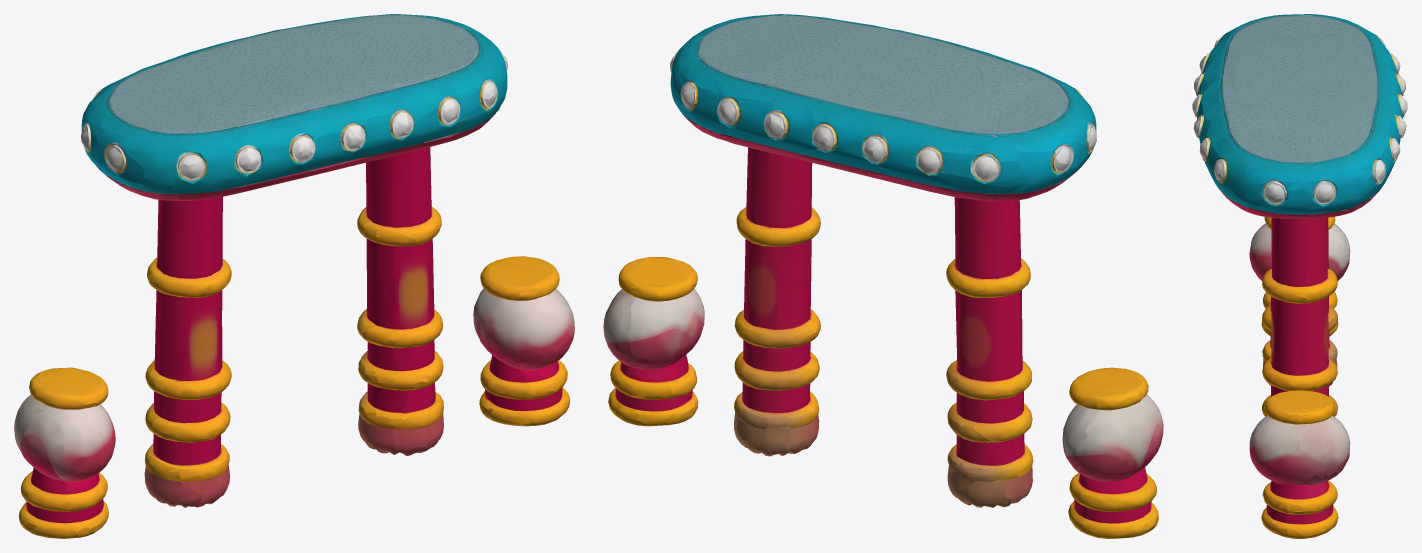
The model's file is door-marquee-arch.glb.
3 views of the same model, side by side, from view 1: azimuth 30°, elevation 25°; view 2: azimuth 150°, elevation 25°; view 3: azimuth 270°, elevation 25° (orthographic). The views are drawn at different scales.
Visible parts, largest first — view 1: mesh_node; view 2: mesh_node; view 3: mesh_node.
Boxes of the visible parts, box(x1,y1,x2,y2) form: mesh_node: box(14, 14, 574, 538); mesh_node: box(603, 14, 1163, 538); mesh_node: box(1192, 14, 1407, 538).
Bounding box in the file's own units: 1.9 × 1.35 × 0.7597.
Materials: 1 (1 with a texture image).
